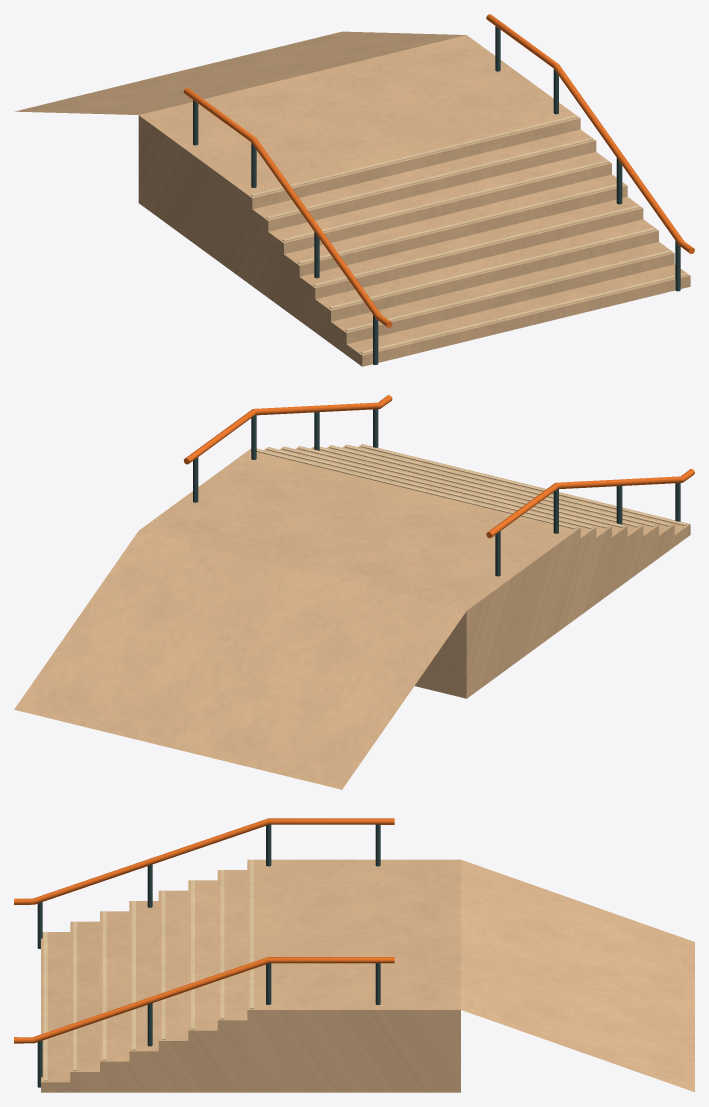
File: customs-stair.glb
3 views of the same model, one above another, from view 1: azimuth 30°, elevation 25°; view 2: azimuth 150°, elevation 25°; view 3: azimuth 270°, elevation 25° (orthographic). The views are drawn at different scales.
Visible parts, largest first — view 1: customs-stair; view 2: customs-stair; view 3: customs-stair.
Part boxes in pixels (x1,y1,x2,y2): customs-stair: (15,14,694,366); customs-stair: (14,395,694,789); customs-stair: (14,818,694,1092).
Size of the model in its own units: 6.4 by 2.57 by 12.25.
Materials: 2 (1 with a texture image).
